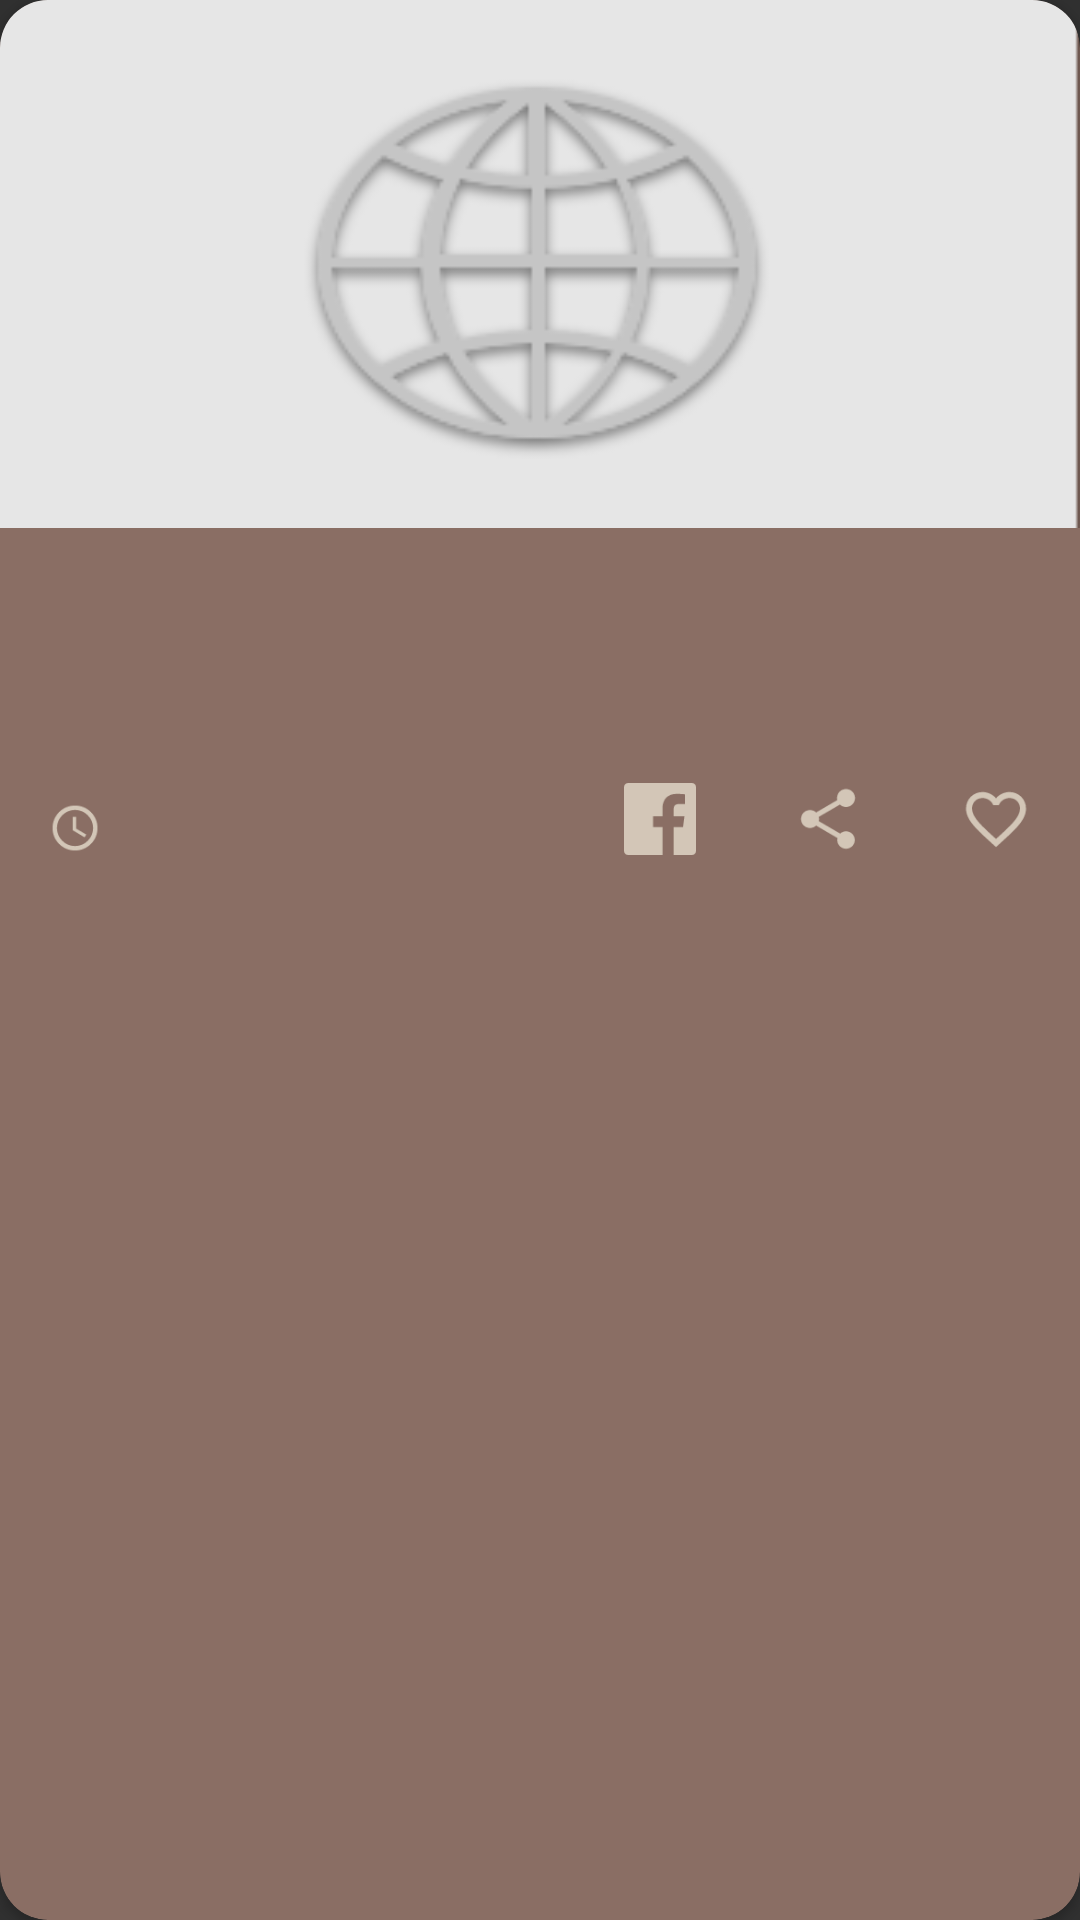

Point at icon controls on the screen. Image size 1080px x 1920px, points as [x,y].
clock: [75,828]
favorite border: [996,819]
share: [828,819]
